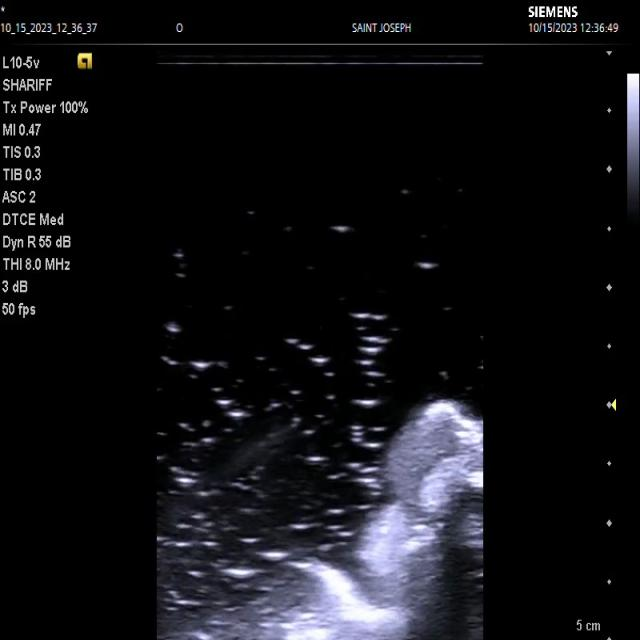tissue: (265, 401, 485, 640)
